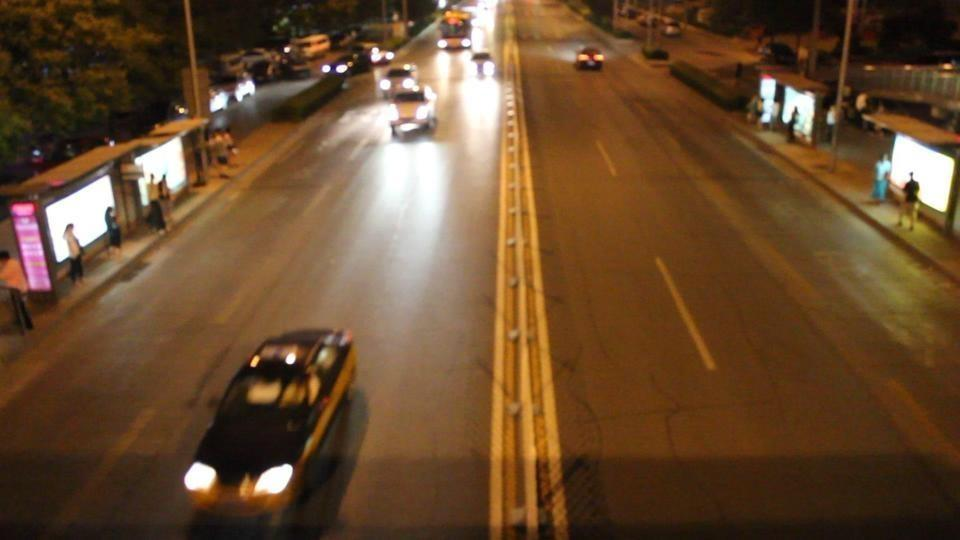car: (182, 326, 364, 535), (388, 88, 438, 143), (352, 23, 402, 66), (230, 49, 284, 83), (209, 73, 258, 110), (378, 64, 423, 101), (436, 11, 473, 51), (286, 32, 331, 62), (759, 41, 799, 67), (320, 51, 356, 79), (575, 46, 606, 71), (366, 45, 396, 67), (662, 22, 684, 39)
